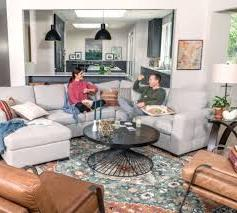chair: (179, 115, 237, 213), (0, 163, 104, 213)
light: (210, 62, 237, 109), (38, 0, 66, 45), (90, 3, 114, 46)
sofa: (0, 86, 216, 164)
table: (78, 123, 160, 177), (25, 66, 127, 85), (206, 112, 237, 144), (83, 59, 122, 71)
